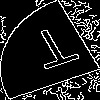T: (25, 25, 87, 79)
